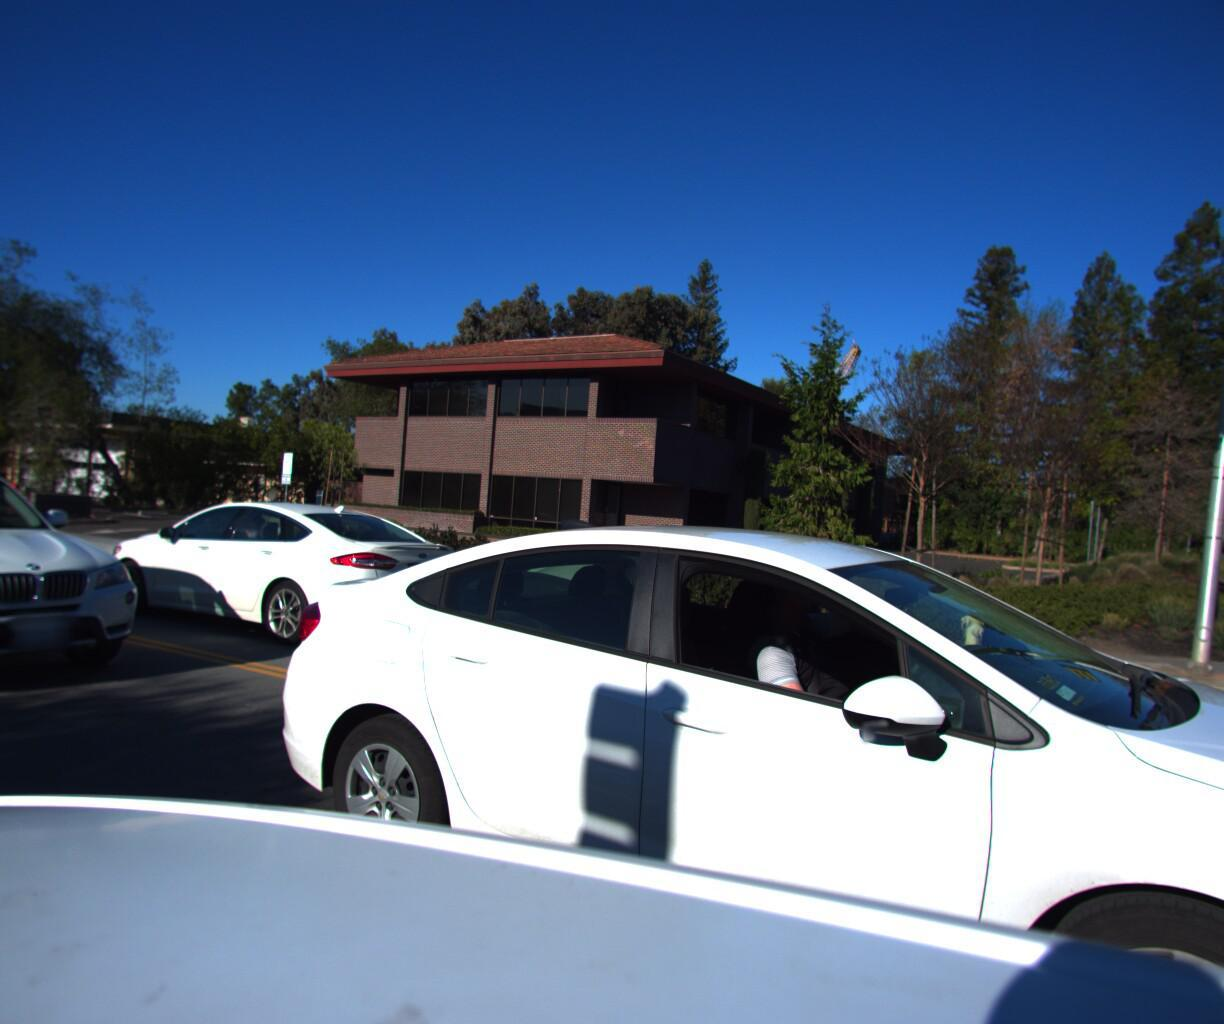car: (217, 489, 1224, 1024), (99, 482, 482, 657), (0, 434, 163, 725)
